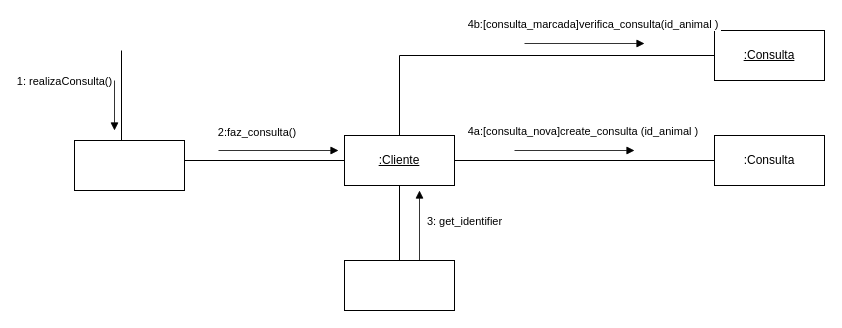
This 842x328 diagram has some shape labels left out. Here are the shapes that lost their labels. From the top down, the centre of each, then its label:
At [129,165]: ":Sistema".
At [399,285]: ":Animal".
